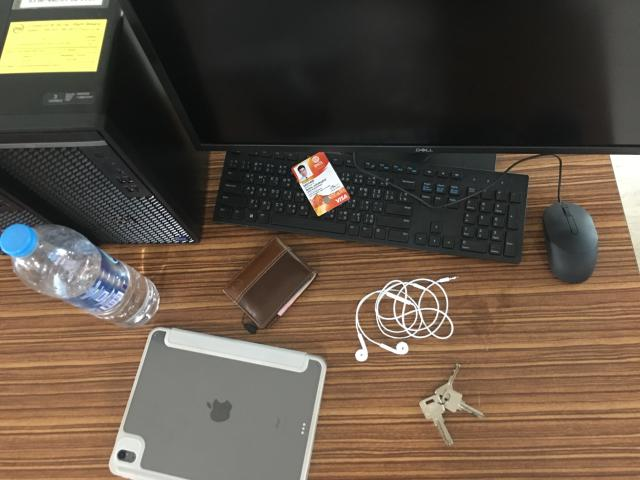Keys: (419, 367, 484, 445)
Mouse: (543, 202, 599, 286)
Wallet: (226, 240, 316, 333)
bottle: (0, 220, 160, 328)
wire: (355, 280, 454, 362)
